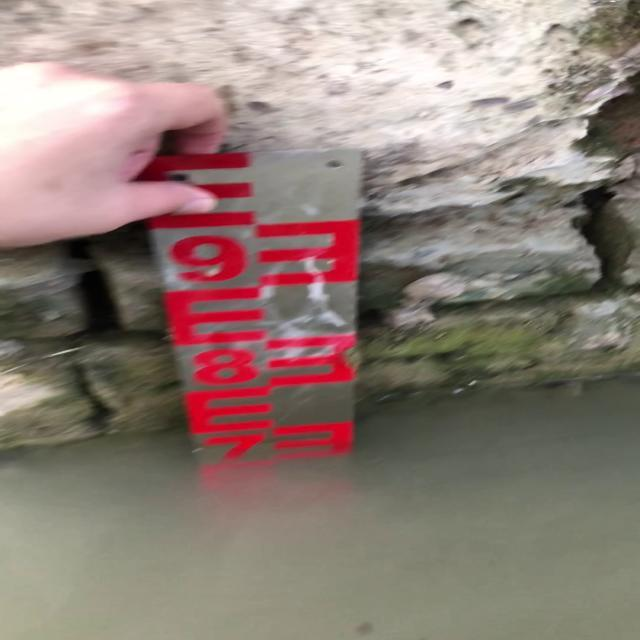value: (154, 225, 256, 291), (175, 345, 270, 392), (192, 429, 275, 467)
